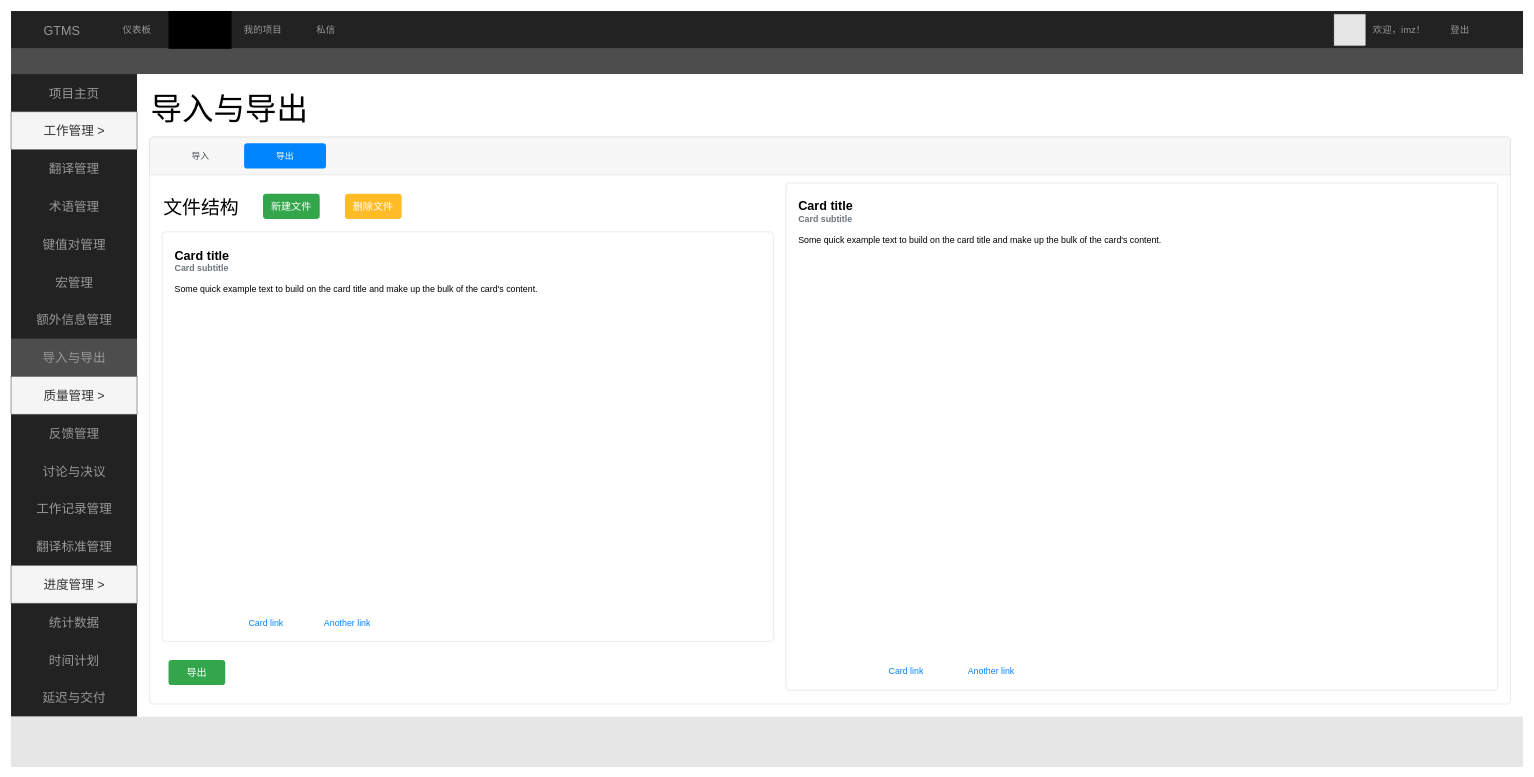
The diagram is 1534 pixels wide and 777 high, and some of its shapes have lost their labels. Grey dashed boxes stand in for pictures. Each missing label, with the box of its shape:
Yifan Xu 毕业设计 @天津工业大学: (11, 716, 1523, 767)
示例中文化项目01 / 导入与导出: (11, 49, 1523, 74)
项目浏览: (168, 11, 231, 49)
